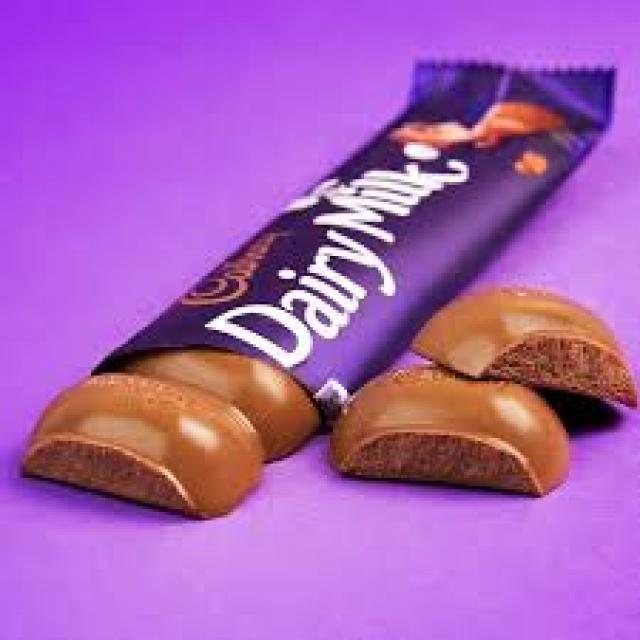cadbury: (18, 53, 638, 541), (362, 376, 550, 498), (463, 295, 630, 400)
